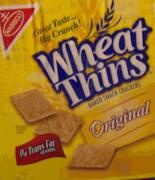grozi_104: (0, 0, 154, 179)
